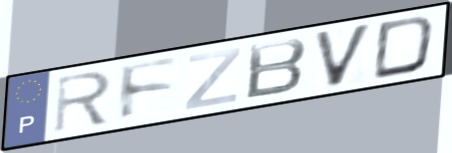B: (243, 36, 310, 102)
D: (369, 13, 439, 82)
F: (117, 55, 182, 125)
R: (51, 68, 115, 136)
V: (310, 20, 376, 91)
Z: (181, 45, 244, 112)
